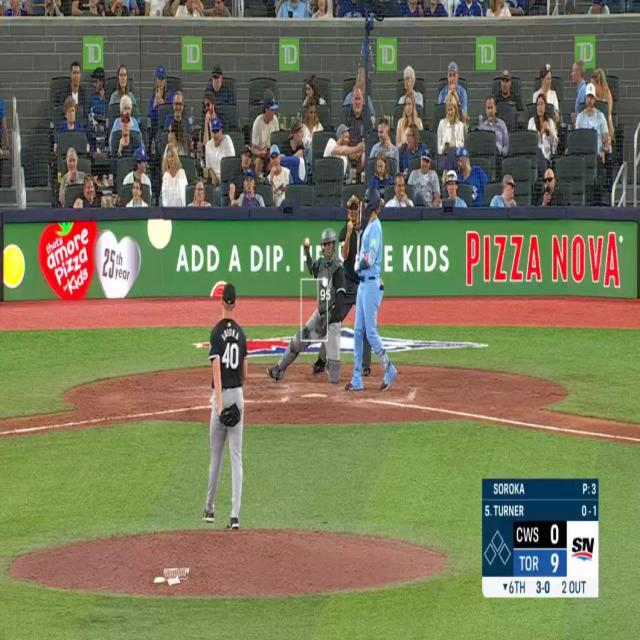Player: (200, 263, 266, 535)
